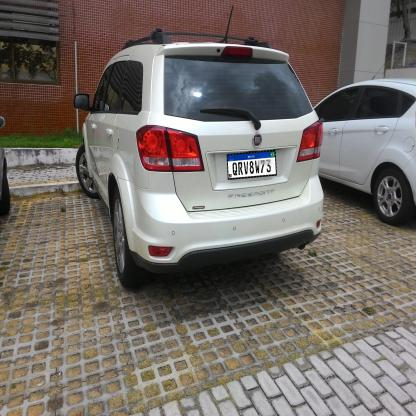PlacaM: (226, 150, 276, 180)
